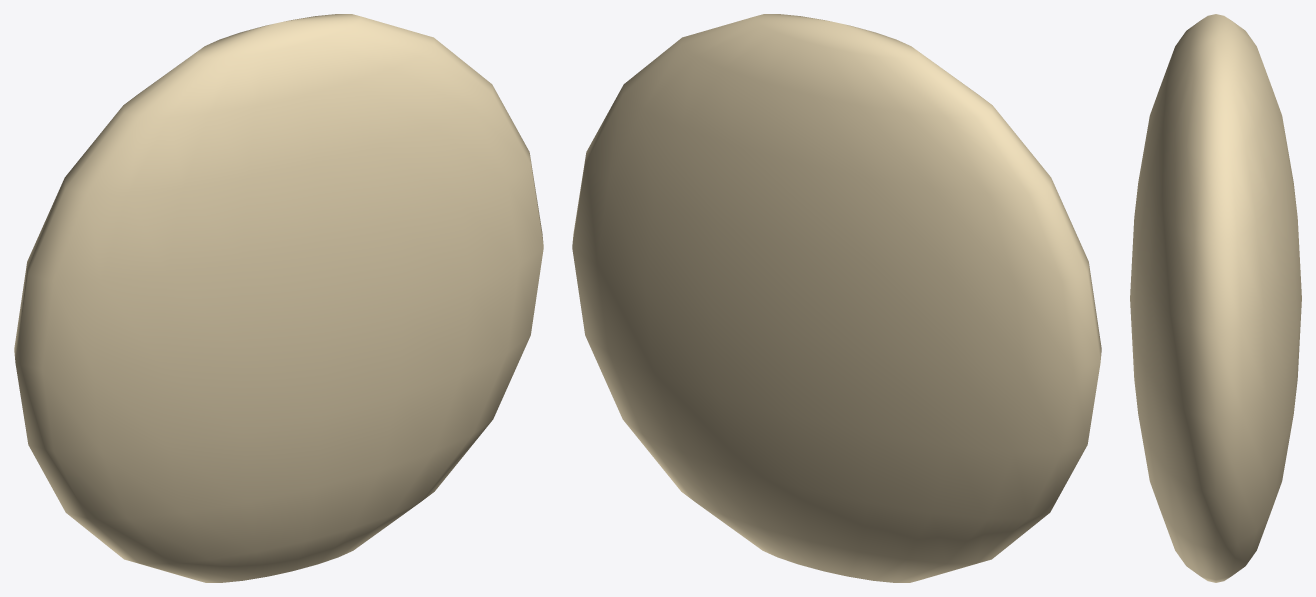
File: baseline.glb
The picture shows the model from 3 angles, left to right: view 1: azimuth 30°, elevation 25°; view 2: azimuth 150°, elevation 25°; view 3: azimuth 270°, elevation 25°; orthographic projection. The views are drawn at different scales.
Visible parts, largest first — view 1: body; view 2: body; view 3: body.
Boxes of the visible parts, x1,y1,x2,y2 form: body: [14, 14, 543, 582]; body: [572, 14, 1101, 582]; body: [1130, 14, 1301, 582].
Bounding box in the file's own units: 0.4 × 0.4 × 0.12.
